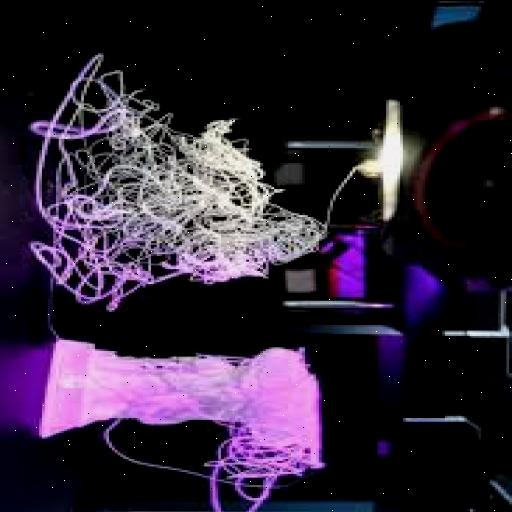spaghetti: (24, 39, 366, 314), (190, 419, 333, 512), (182, 346, 270, 372)
